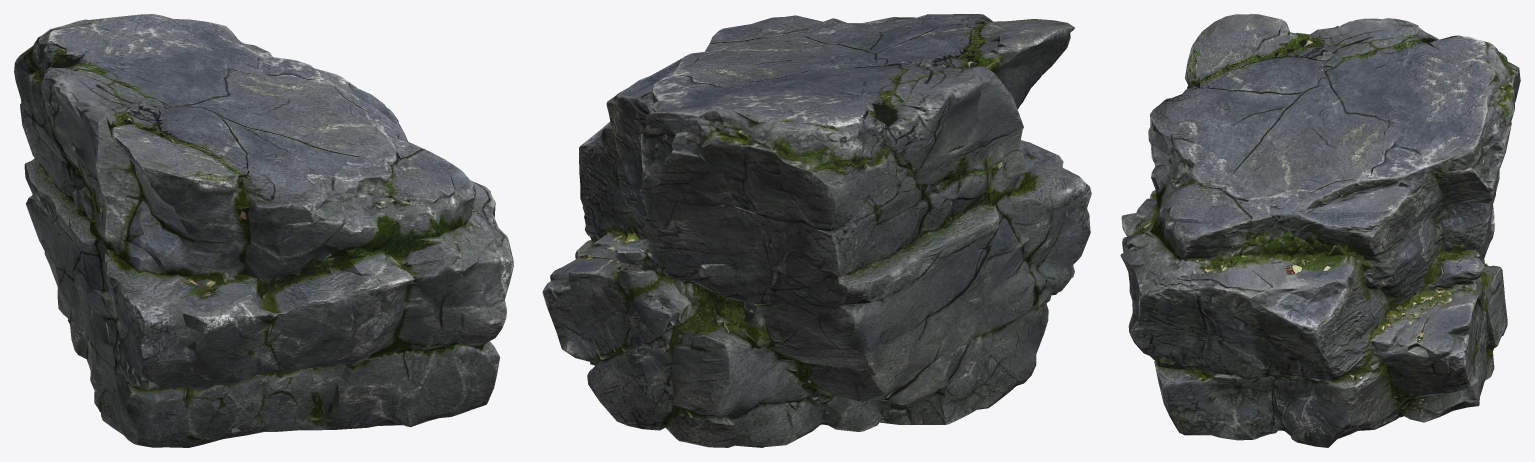
The model's file is boulder_rock_3d_model_freeOld.glb.
3 views of the same model, side by side, from view 1: azimuth 30°, elevation 25°; view 2: azimuth 150°, elevation 25°; view 3: azimuth 270°, elevation 25° (orthographic). The views are drawn at different scales.
Visible parts, largest first — view 1: Object_4; view 2: Object_4; view 3: Object_4.
Part boxes in pixels (x1,y1,x2,y2): Object_4: (14, 14, 513, 447); Object_4: (542, 14, 1091, 447); Object_4: (1120, 14, 1520, 447).
Size of the model in its own units: 2.01 by 1.56 by 1.99.
1 material, 1 textured.
